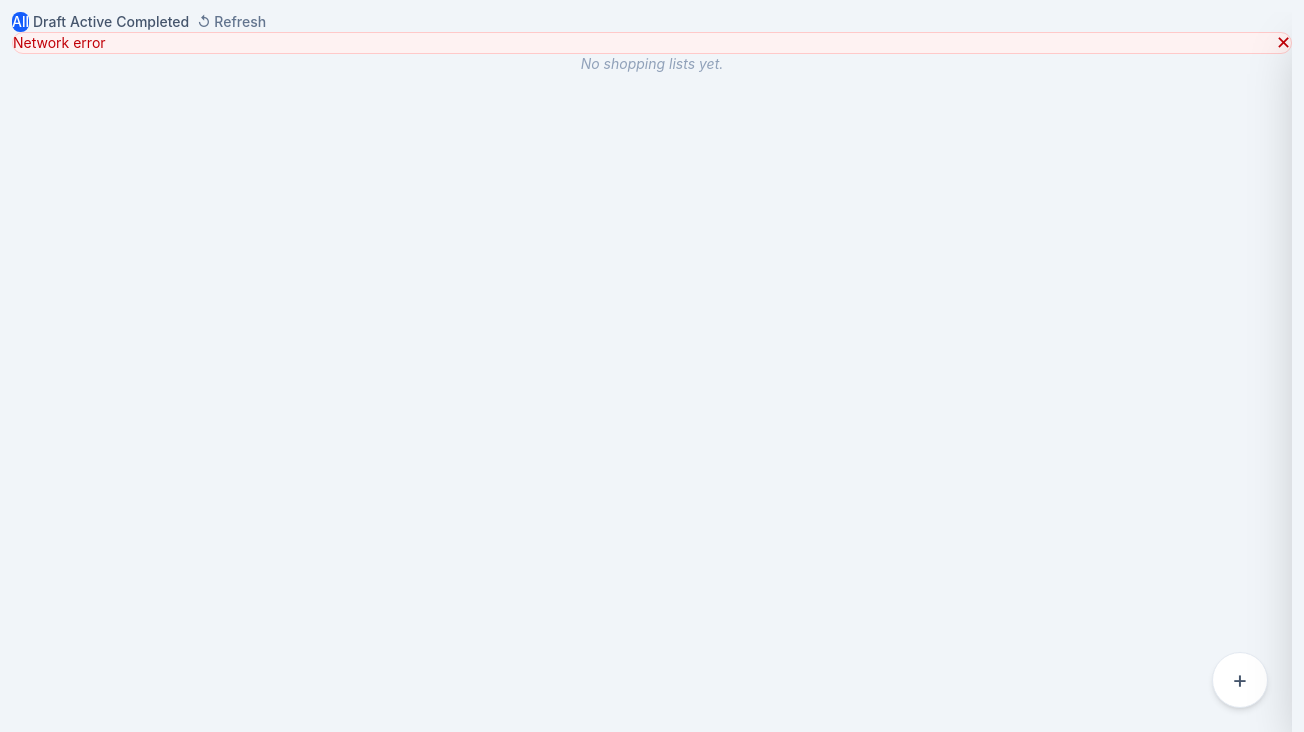
Test: GroceryLists — error state › dismisses error banner when ✕ is clicked
The width and height of the screenshot is (1304, 732).
Expected: the text "Network error" is shown, top-left (13, 33), bottom-right (106, 53)
Click the button "✕".
click(1283, 43)  # box top-left (1276, 34), bottom-right (1291, 52)
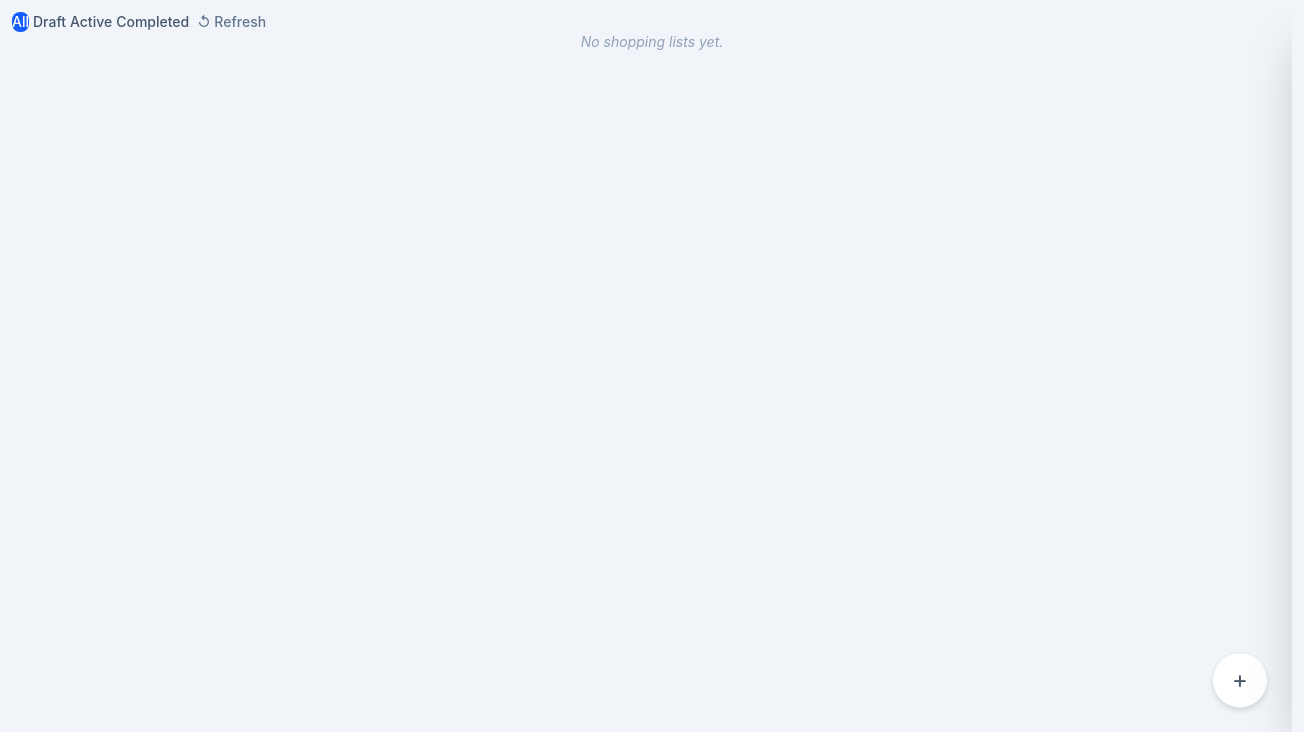
Result: the text "Network error" is gone
